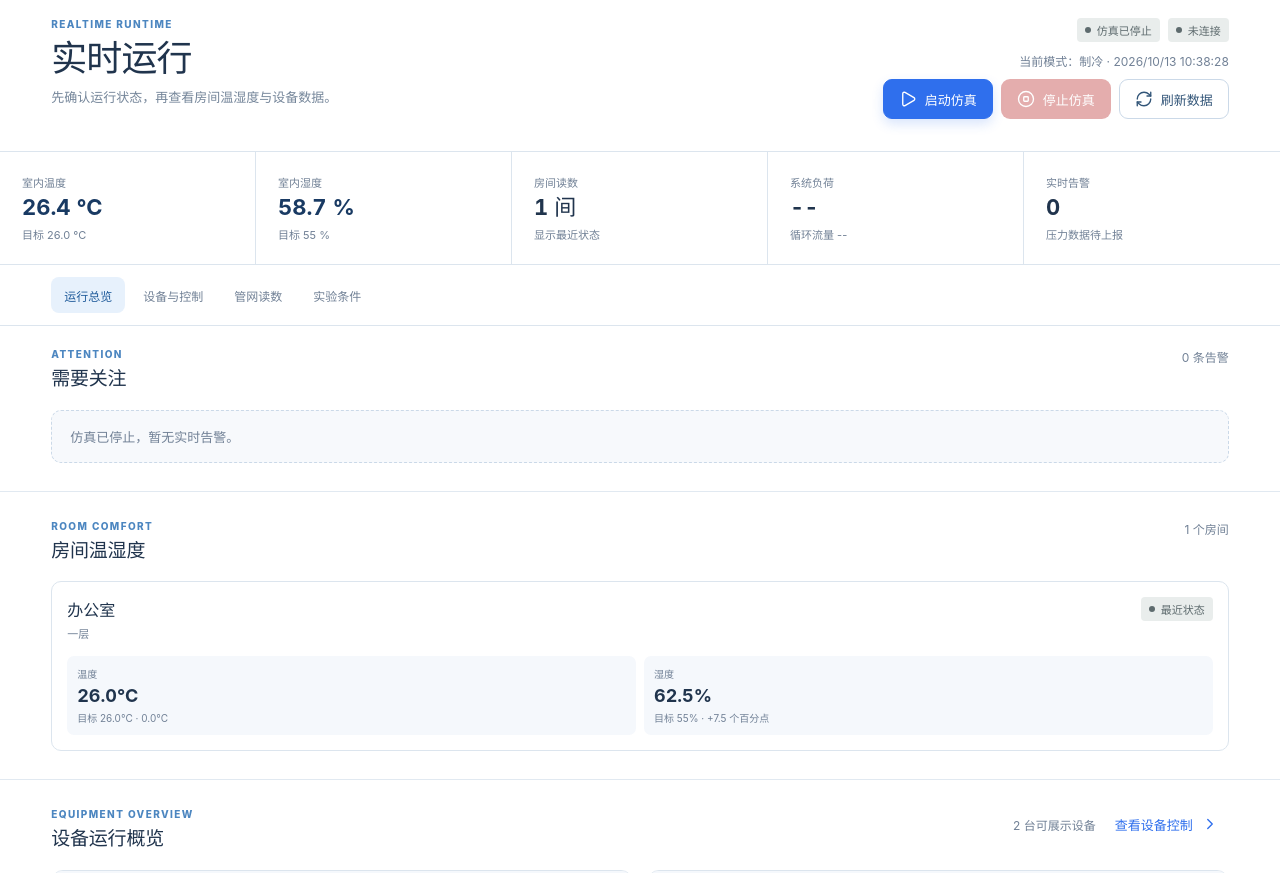
runtime device controls › fills empty design attributes from rated catalog values
The width and height of the screenshot is (1280, 873).
Click the tab with id "runtime-tab-devices".
click(173, 295)  # box [130, 277, 216, 313]
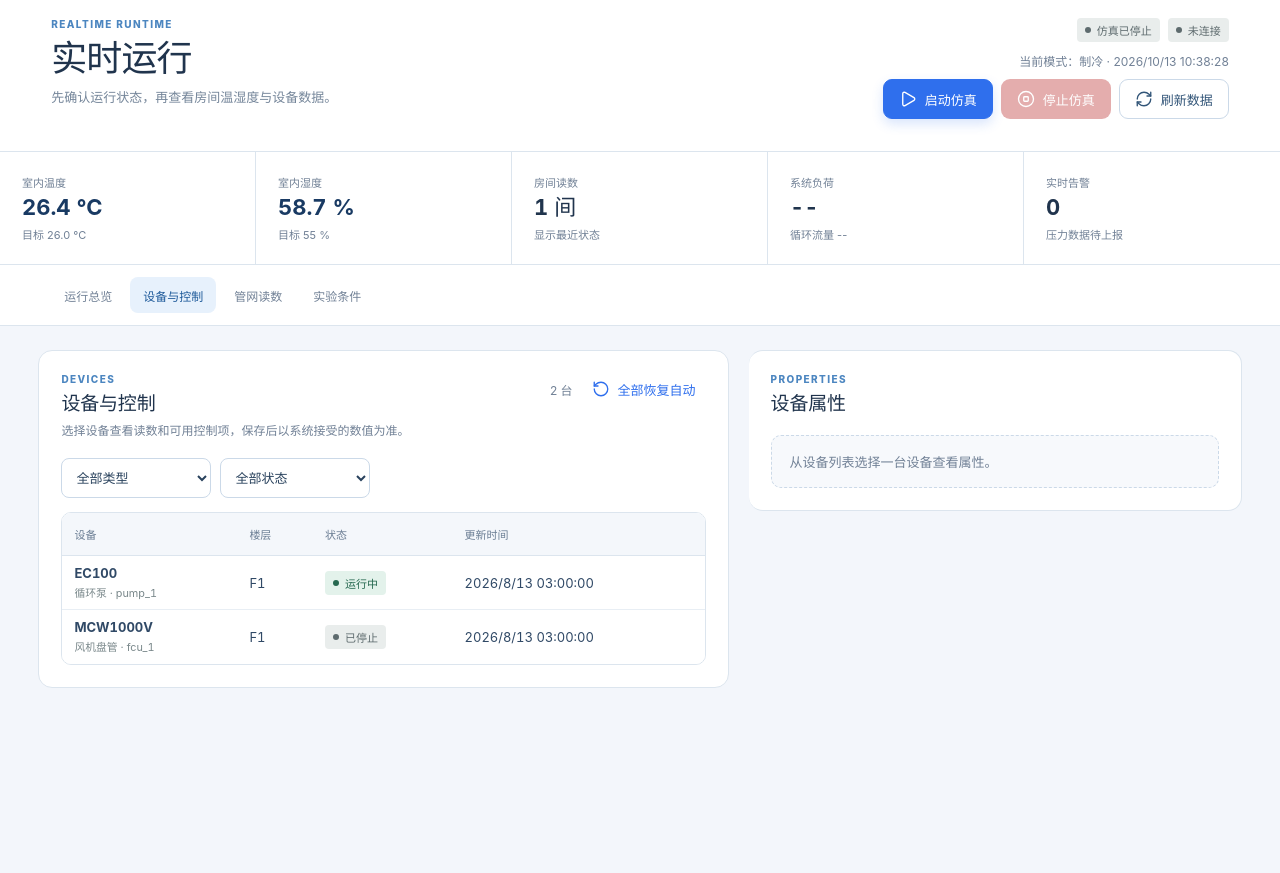
Expected: the row "EC100 循环泵 · pump_1 F1 运行中 2026/8/13 03:00:00" is shown
Click the row "EC100 循环泵 · pump_1 F1 运行中 2026/8/13 03:00:00".
click(384, 583)  # box [62, 556, 705, 610]
(page scrolled)
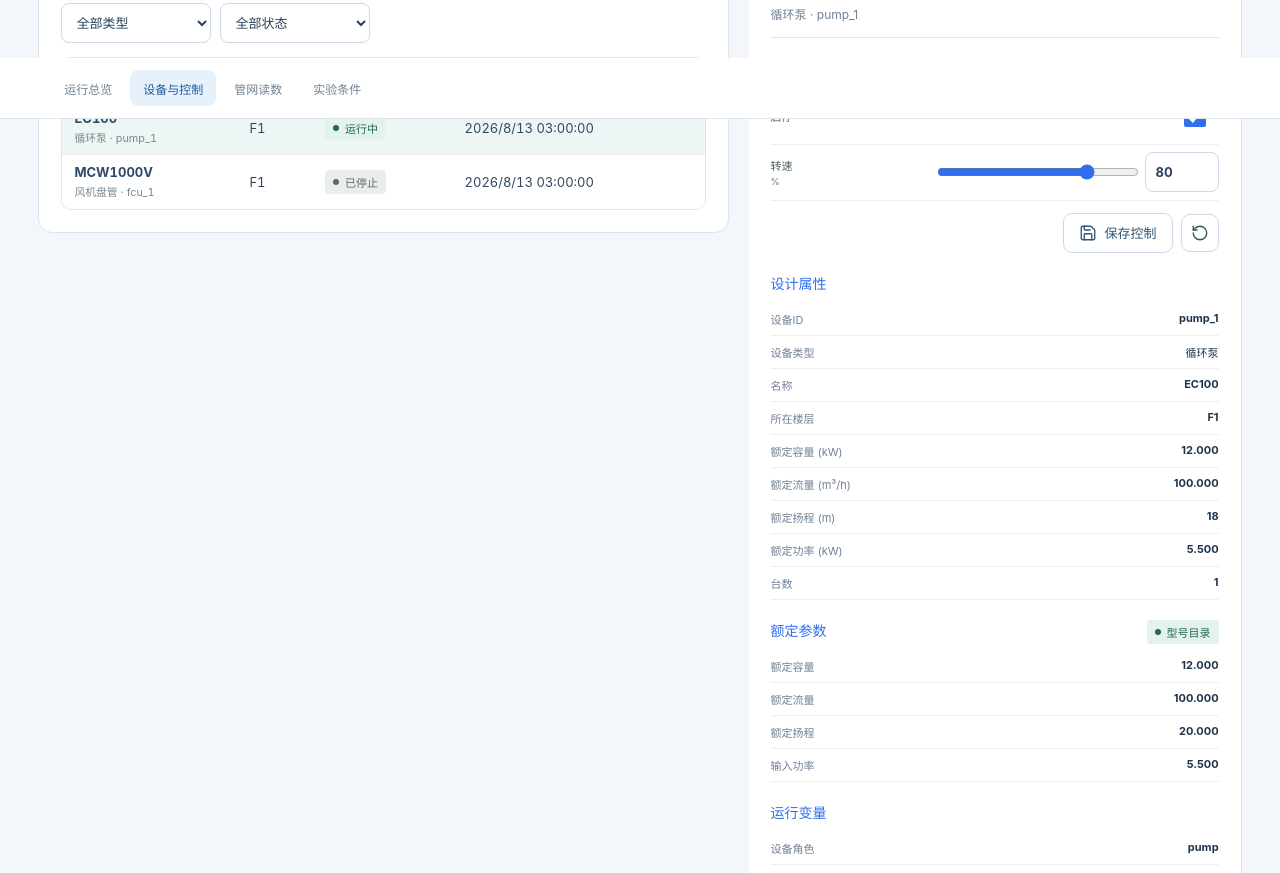
Expected: the element that starts with "设计属性" is shown, [771, 273, 1219, 600]
Expected: the text "12.000" next to "额定容量 (kW)" is shown, [1181, 443, 1219, 457]
Expected: the text "100.000" next to "额定流量 (m³/h)" is shown, [1174, 476, 1219, 490]
